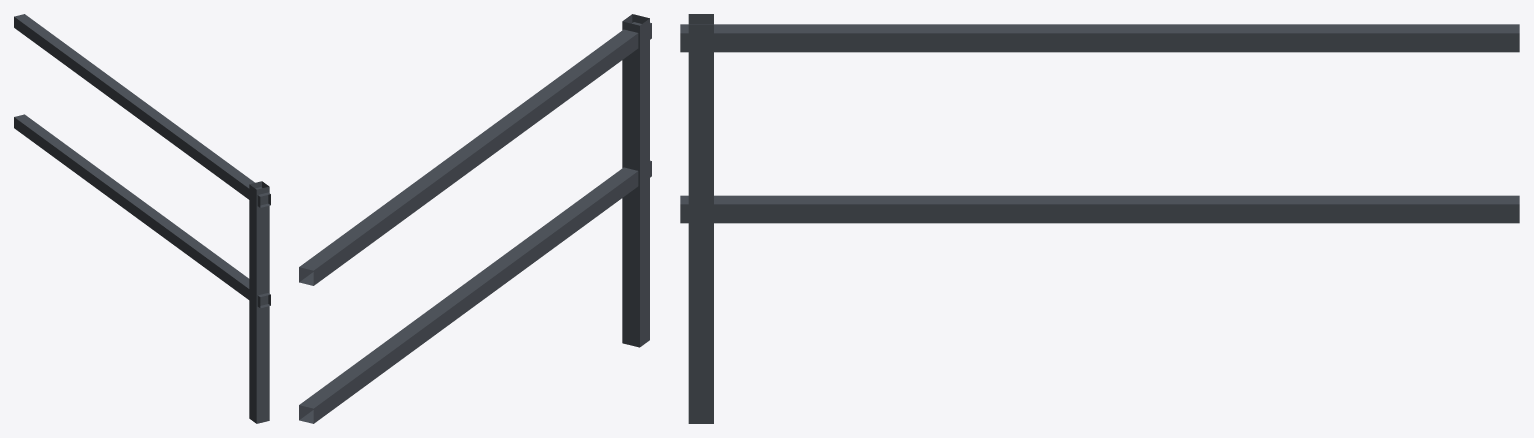
File: mtn_handrail.glb
3 renders of one model, left to right at view 1: azimuth 30°, elevation 25°; view 2: azimuth 150°, elevation 25°; view 3: azimuth 270°, elevation 25°, orthographic. The views are drawn at different scales.
Parts seen in each view (by area): view 1: mtn_handrail; view 2: mtn_handrail; view 3: mtn_handrail.
Boxes of the visible parts, x1,y1,x2,y2 form: mtn_handrail: [14, 14, 270, 423]; mtn_handrail: [299, 14, 651, 423]; mtn_handrail: [680, 14, 1519, 423].
Bounding box in the file's own units: 0.06 × 1.05 × 2.
1 material, 1 textured.
